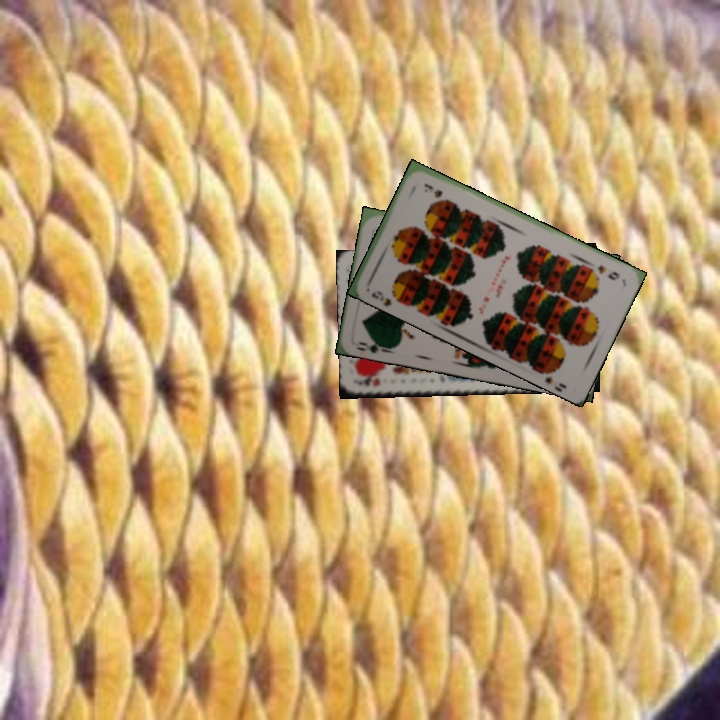GO: (352, 335, 393, 356)
HK: (359, 373, 383, 388)
S9: (367, 287, 404, 308), (594, 261, 622, 283)
